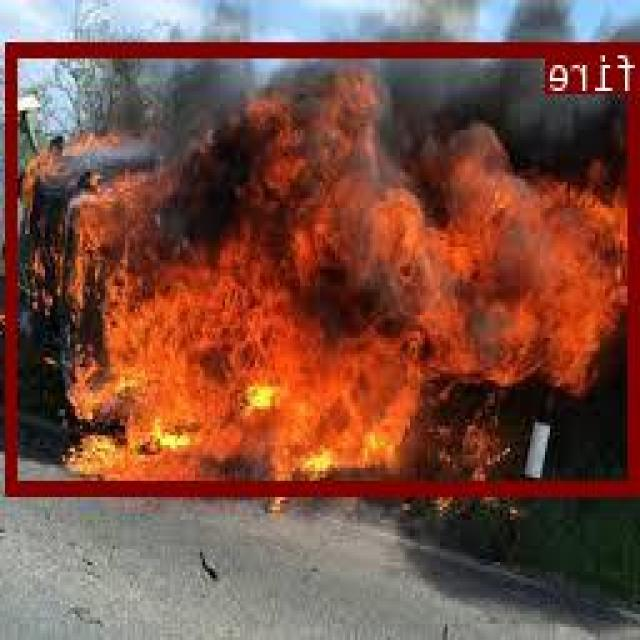fire: (8, 39, 640, 490)
